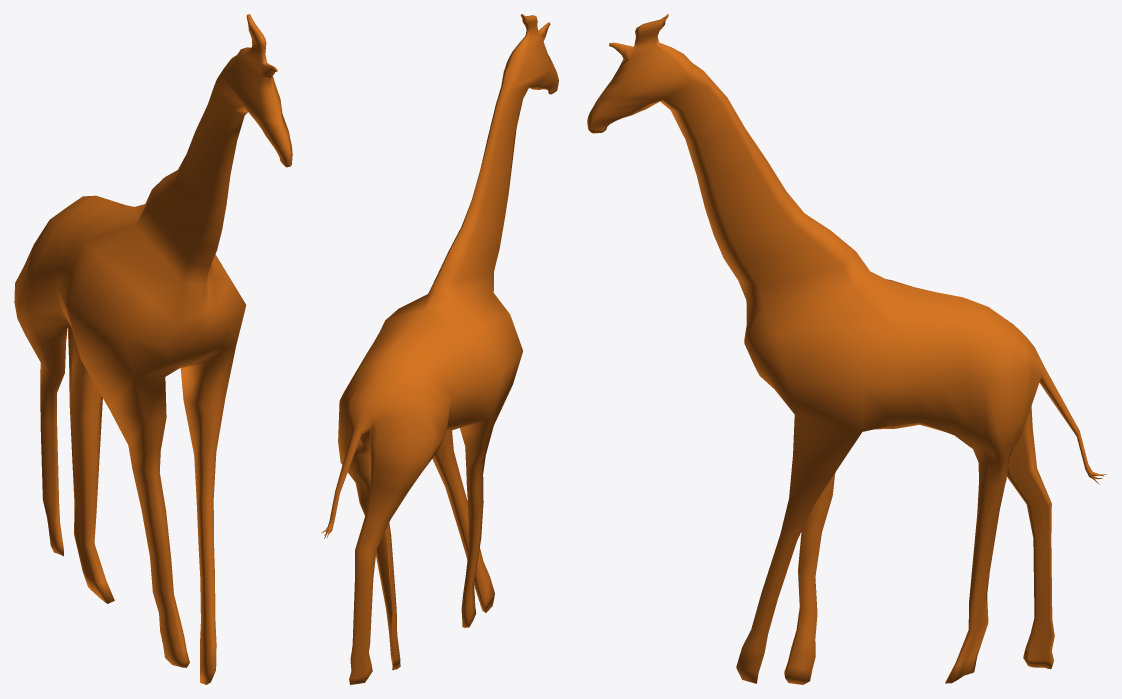
3 views of the same model, side by side, from view 1: azimuth 30°, elevation 25°; view 2: azimuth 150°, elevation 25°; view 3: azimuth 270°, elevation 25° (orthographic). The views are drawn at different scales.
Parts seen in each view (by area): view 1: Cilindro.001; view 2: Cilindro.001; view 3: Cilindro.001.
Boxes of the visible parts, x1=… form: Cilindro.001: x1=14, y1=14, x2=292, y2=684; Cilindro.001: x1=321, y1=14, x2=558, y2=684; Cilindro.001: x1=587, y1=14, x2=1107, y2=684.
Size of the model in its own units: 0.2118 by 0.9151 by 0.6429.
